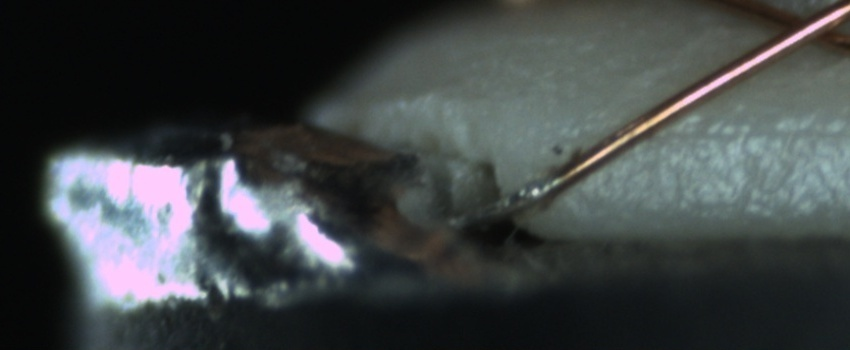CL: (755, 0, 847, 57)
DL: (636, 102, 849, 162)
TS: (448, 175, 558, 229)
